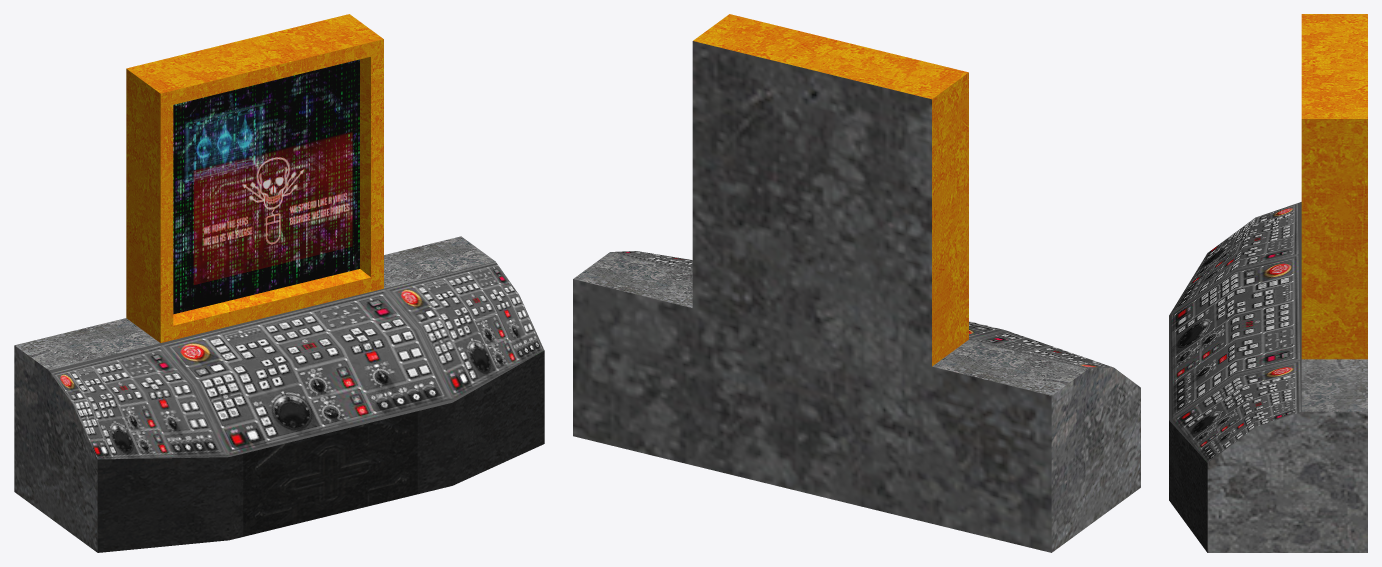
File: Space_Terminal.FBX
3 views of the same model, side by side, from view 1: azimuth 30°, elevation 25°; view 2: azimuth 150°, elevation 25°; view 3: azimuth 270°, elevation 25° (orthographic). The views are drawn at different scales.
Parts seen in each view (by area): view 1: Box001; view 2: Box001; view 3: Box001.
Boxes of the visible parts, x1,y1,x2,y2 form: Box001: (14, 14, 544, 552); Box001: (573, 14, 1140, 552); Box001: (1169, 14, 1367, 552).
Bounding box in the file's own units: 5 × 4.24 × 2.
